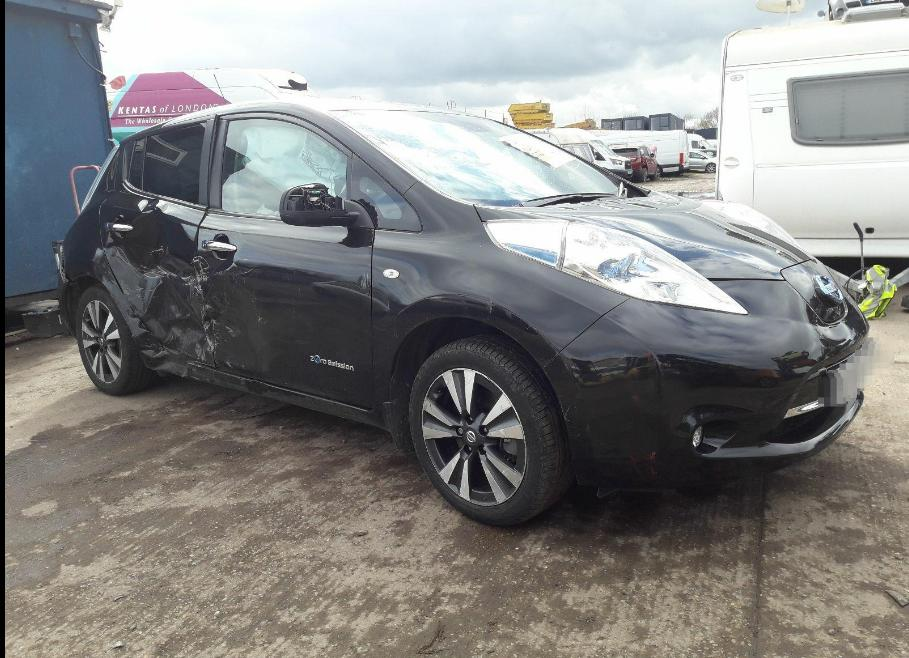Back-bumper: (52, 240, 76, 337)
Back-door: (98, 116, 216, 362)
Back-wheel: (75, 284, 152, 397)
Back-window: (123, 121, 203, 204)
Fender: (371, 181, 631, 405)
Front-bumper: (544, 259, 872, 492)
Front-door: (194, 111, 421, 411)
Front-wheel: (408, 336, 567, 525)
Front-window: (219, 116, 353, 224)
Headlight: (484, 219, 748, 314)
Hood: (475, 190, 815, 282)
License-plate: (826, 337, 871, 407)
Mirror: (278, 185, 377, 250)
Quarter-panel: (61, 174, 162, 351)
Rocker-panel: (142, 346, 392, 436)
Roof: (157, 97, 473, 126)
Windshield: (324, 109, 639, 206)
